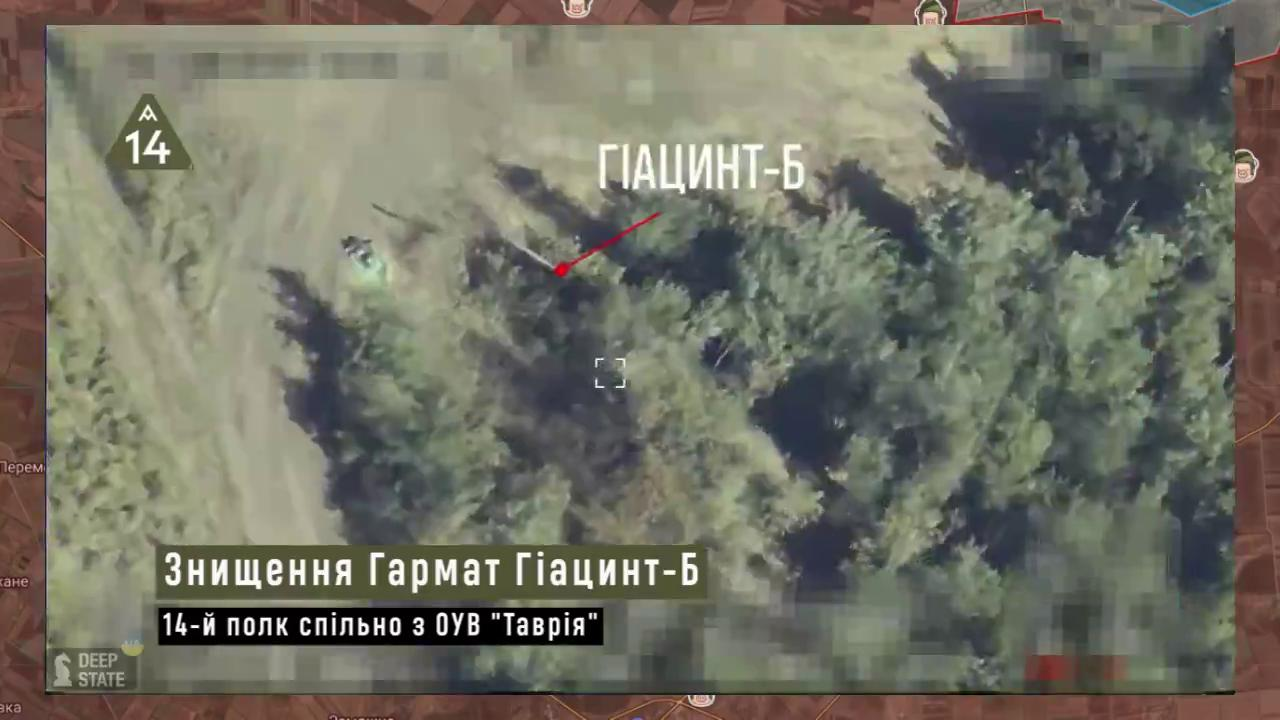tank: (477, 213, 609, 317)
